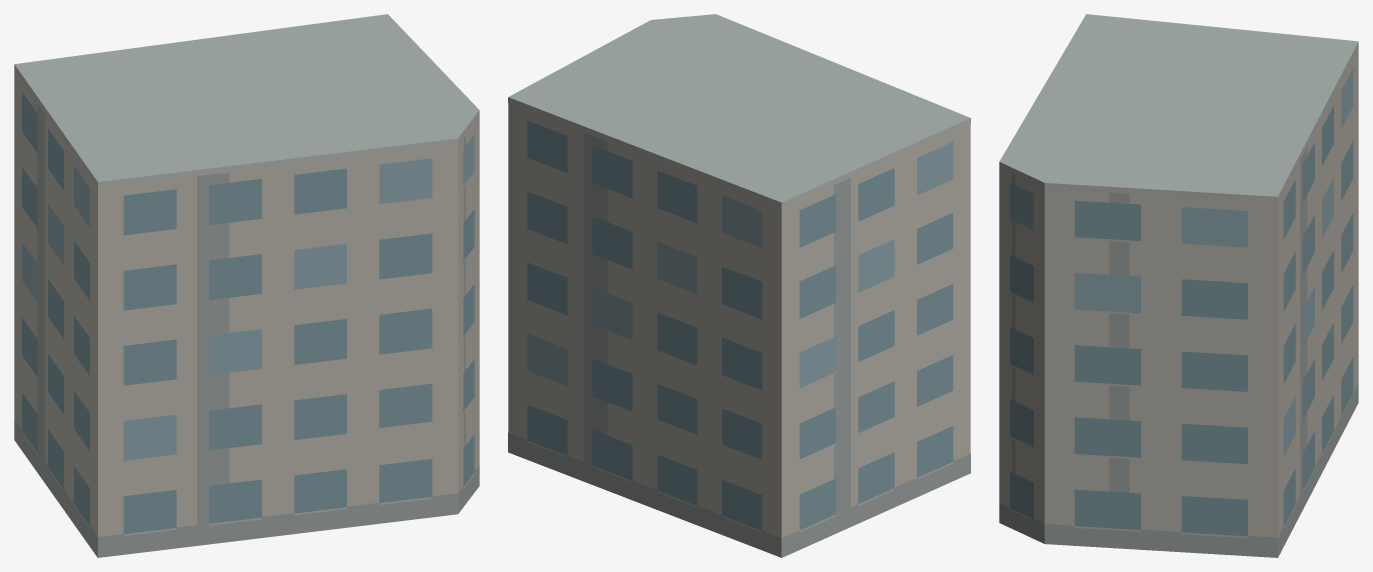
The model's file is survey-upis-32803347.glb.
The picture shows the model from 3 angles, left to right: view 1: azimuth 30°, elevation 25°; view 2: azimuth 150°, elevation 25°; view 3: azimuth 270°, elevation 25°; orthographic projection. The views are drawn at different scales.
Parts seen in each view (by area): view 1: survey-upis-32803347.tmp; view 2: survey-upis-32803347.tmp; view 3: survey-upis-32803347.tmp.
Boxes of the visible parts, x1,y1,x2,y2 form: survey-upis-32803347.tmp: (14,14,479,557); survey-upis-32803347.tmp: (508,14,970,557); survey-upis-32803347.tmp: (999,14,1358,557).
Size of the model in its own units: 15.75 by 14.5 by 13.09.
